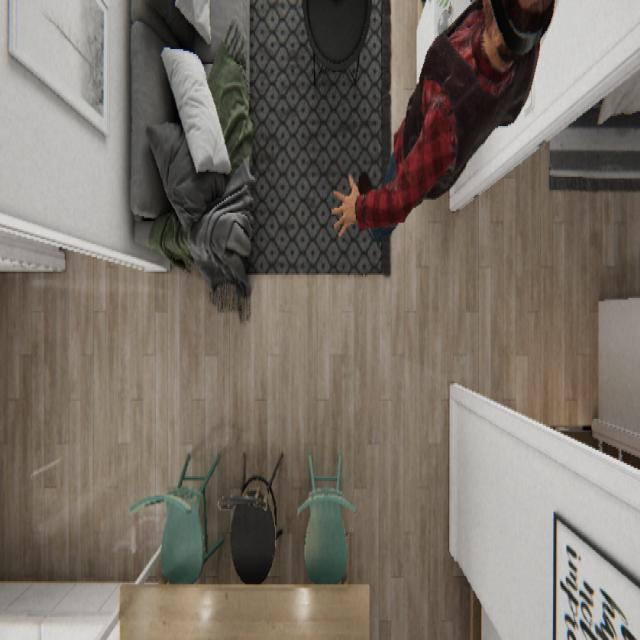Human: (330, 0, 557, 244)
